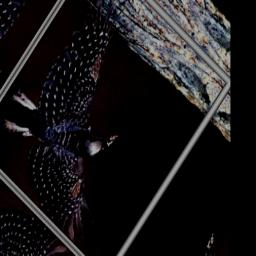Woodpecker: (0, 0, 189, 249)
